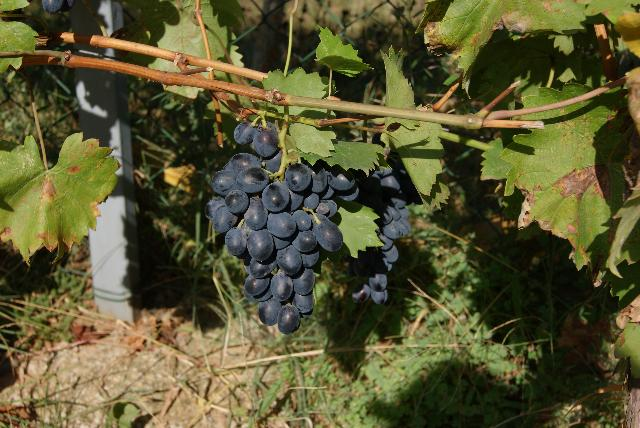grapes: (205, 122, 352, 334), (344, 159, 421, 305)
